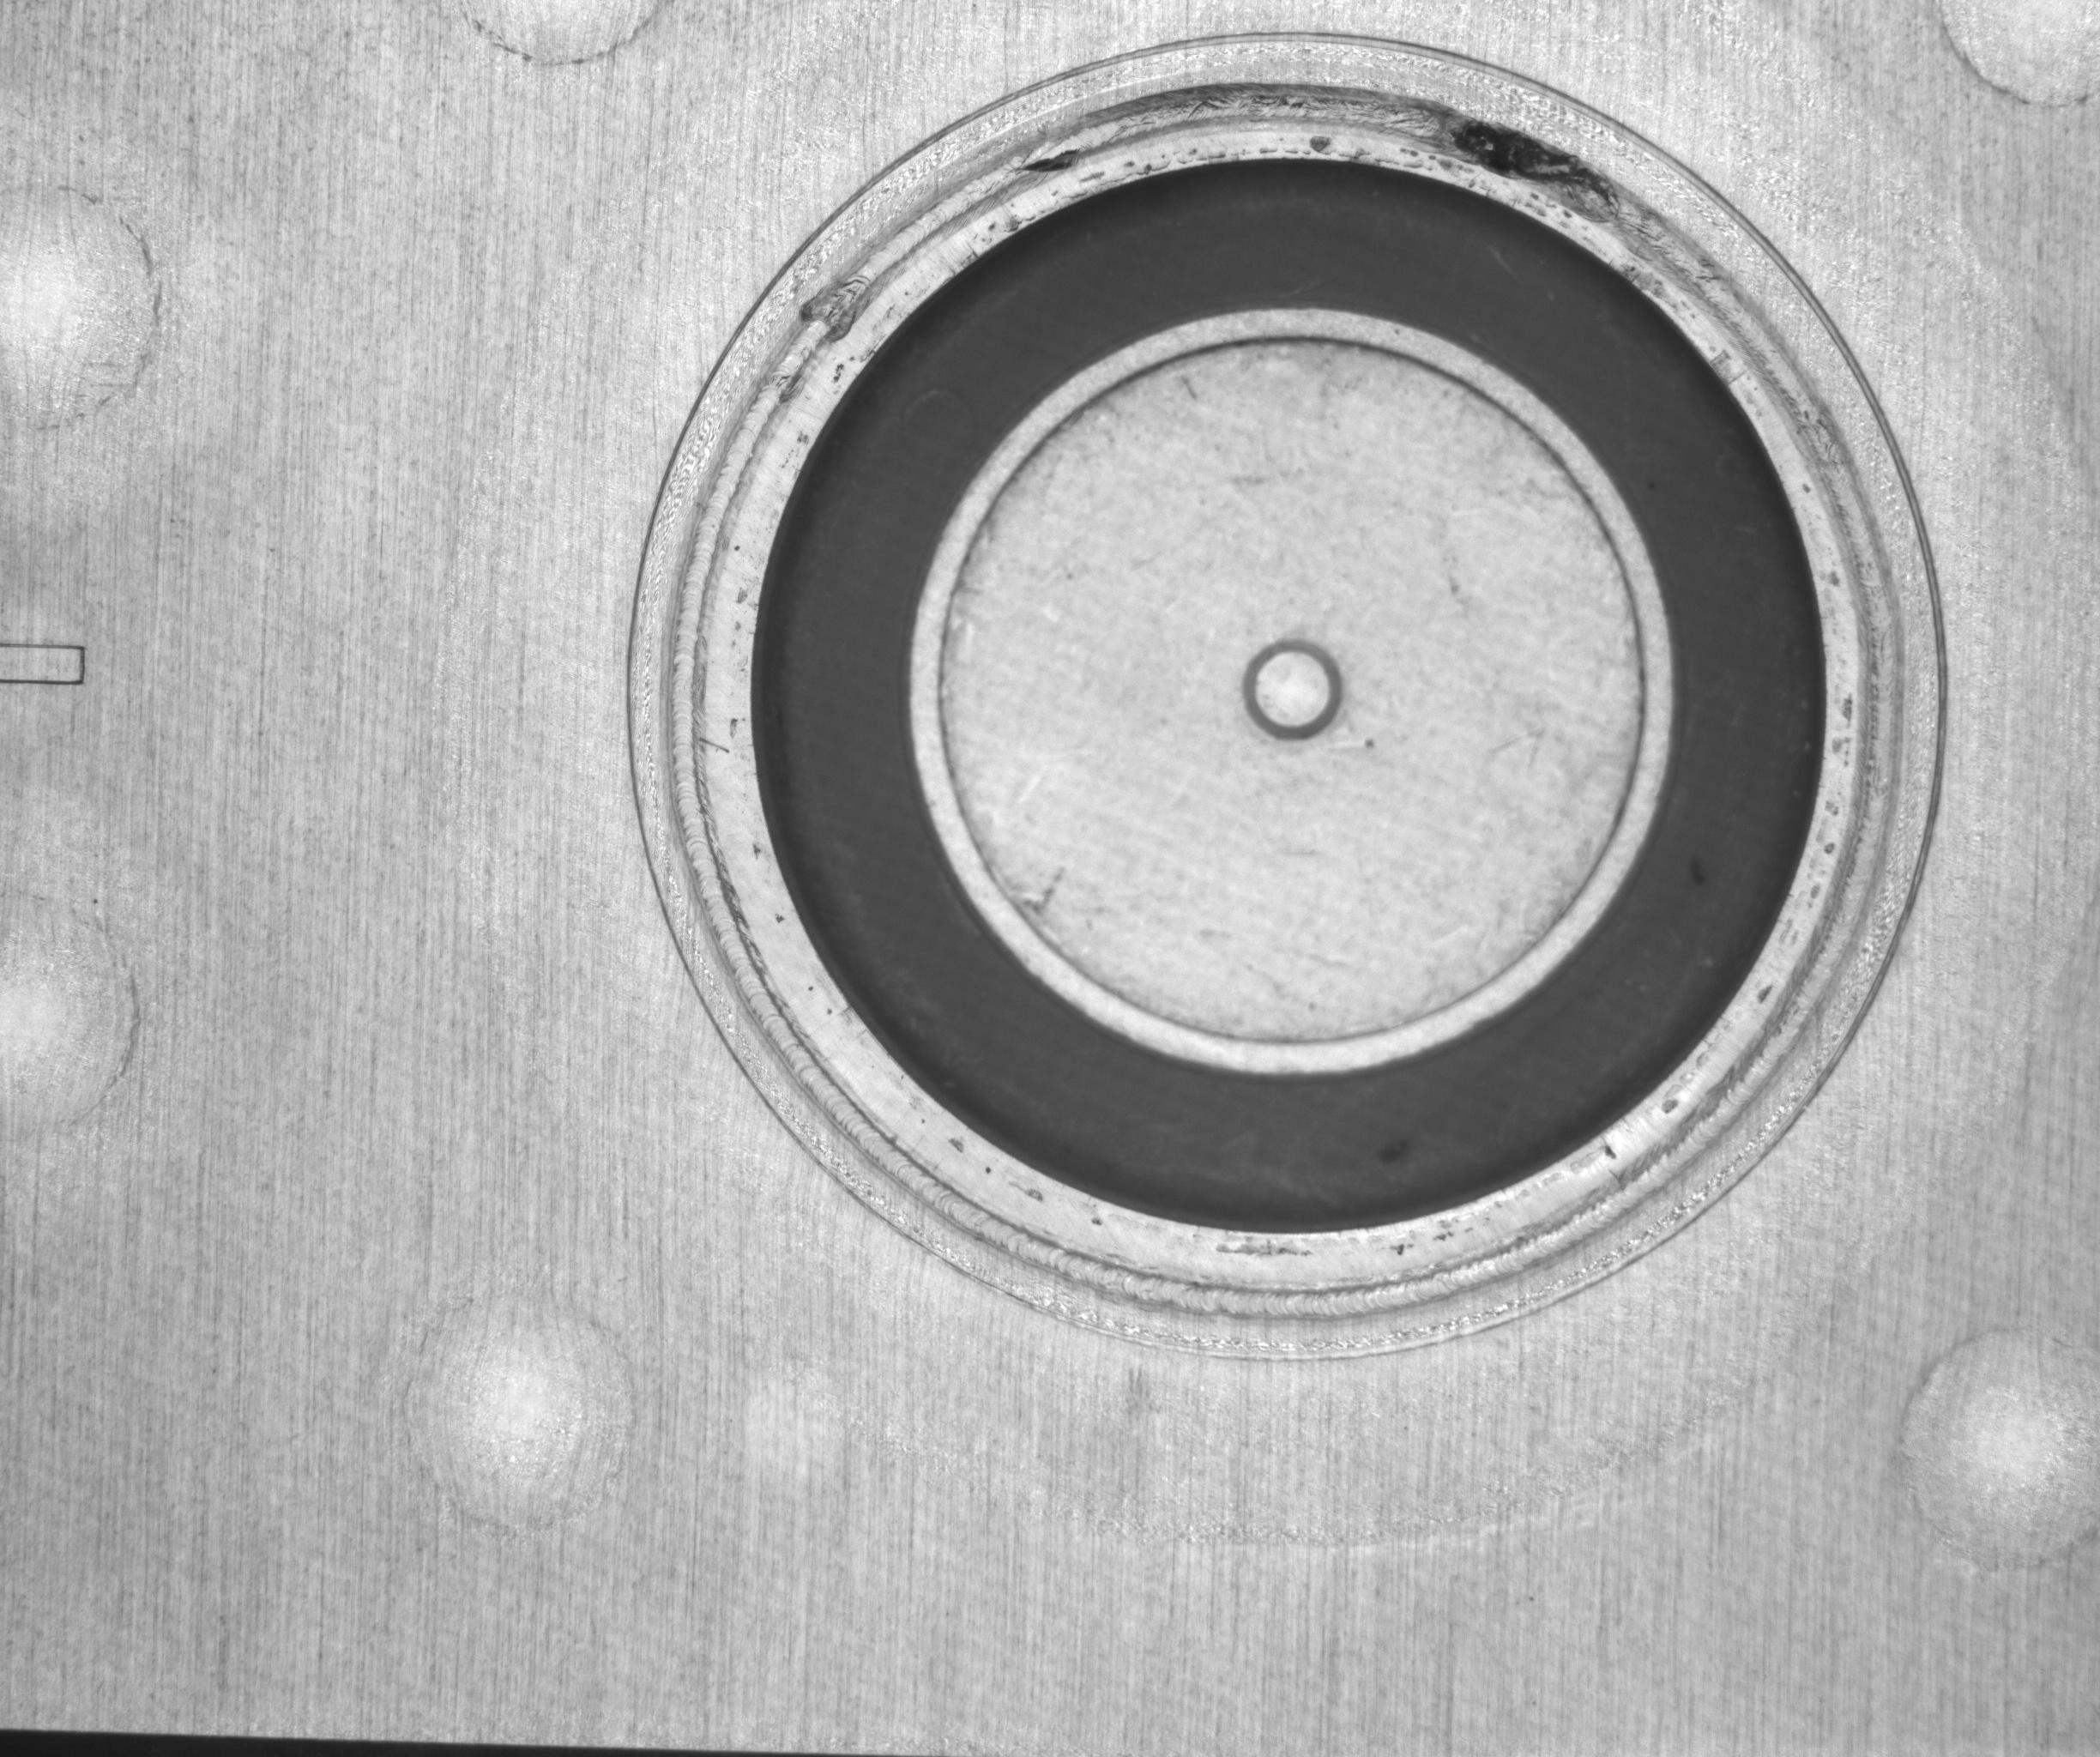continuousholes: (1418, 66, 1652, 244)
